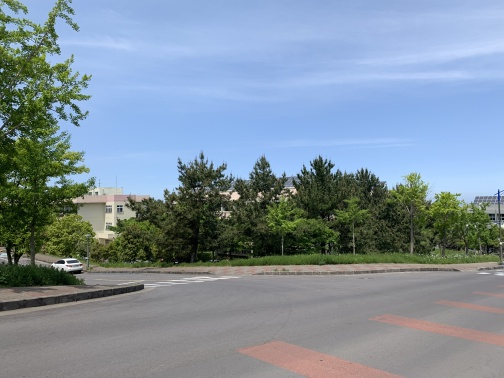College Of Education: (75, 175, 160, 246)
